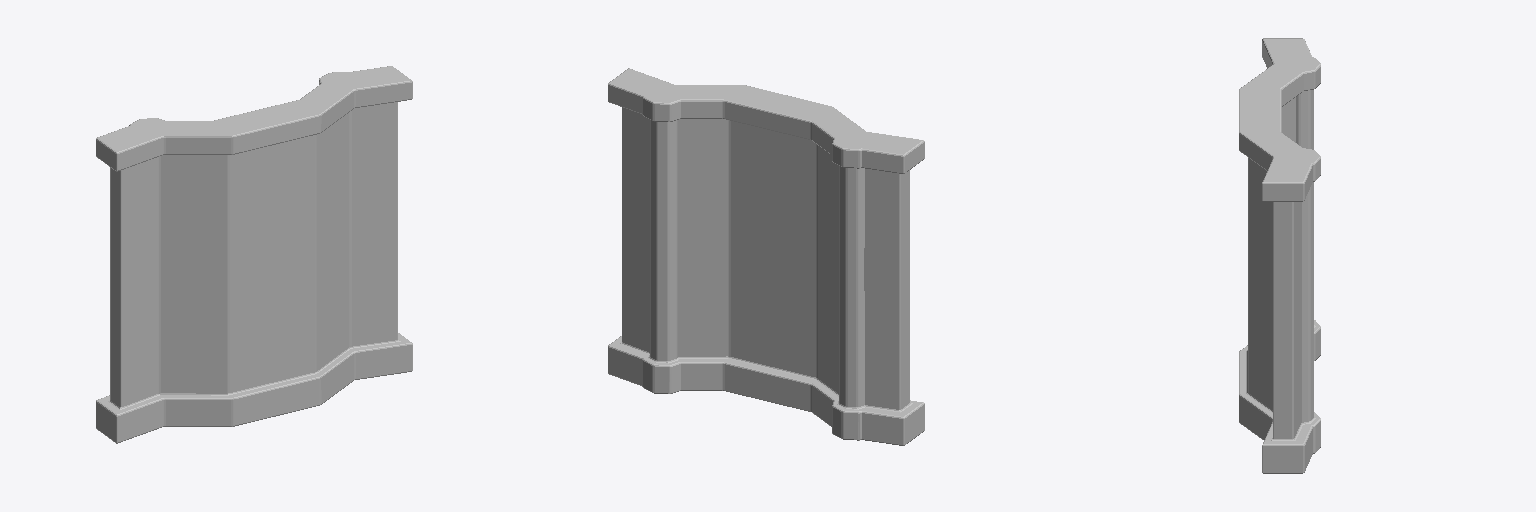
Rendered from MANOR_WALL_3_001.obj.
The picture shows the model from 3 angles: view 1: azimuth 30°, elevation 25°; view 2: azimuth 150°, elevation 25°; view 3: azimuth 270°, elevation 25°; orthographic projection.
Parts seen in each view (by area): view 1: MANOR_WALL_3_001; view 2: MANOR_WALL_3_001; view 3: MANOR_WALL_3_001.
Boxes of the visible parts, <box> form: MANOR_WALL_3_001: <box>96,66,412,443</box>; MANOR_WALL_3_001: <box>608,68,924,445</box>; MANOR_WALL_3_001: <box>1239,38,1320,473</box>.
Bounding box in the file's own units: 3.2 × 3 × 0.7727.